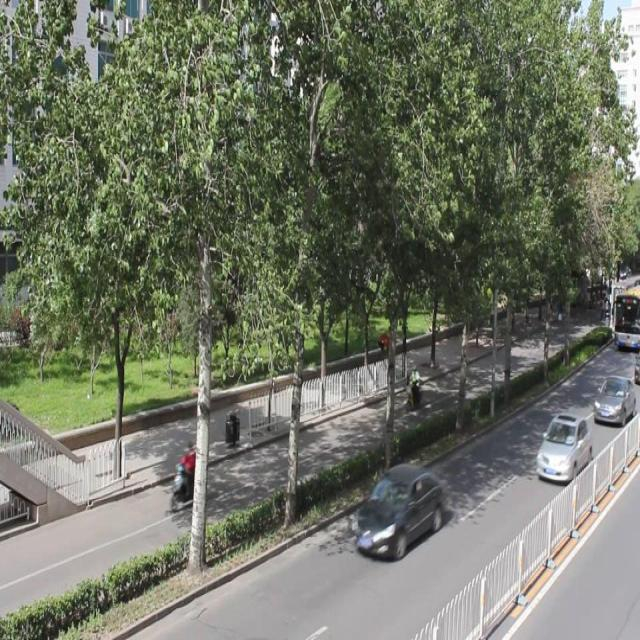car: (351, 461, 446, 561), (534, 406, 592, 482), (590, 373, 640, 425)
